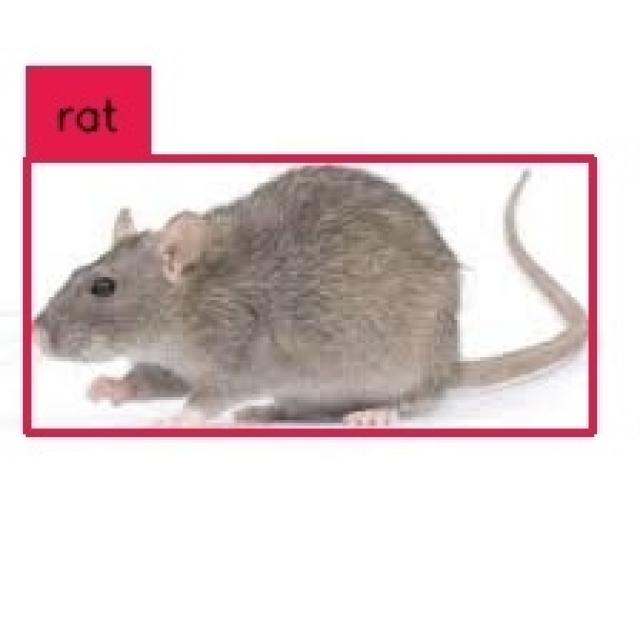rat: (27, 160, 593, 434)
